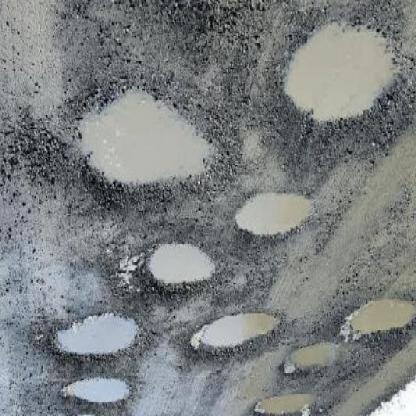pothole: (67, 83, 226, 208), (275, 19, 401, 137), (49, 312, 148, 371), (185, 312, 284, 370), (230, 192, 314, 248), (144, 244, 216, 301), (343, 298, 416, 345), (58, 380, 133, 412), (286, 342, 347, 377), (250, 392, 319, 416)
